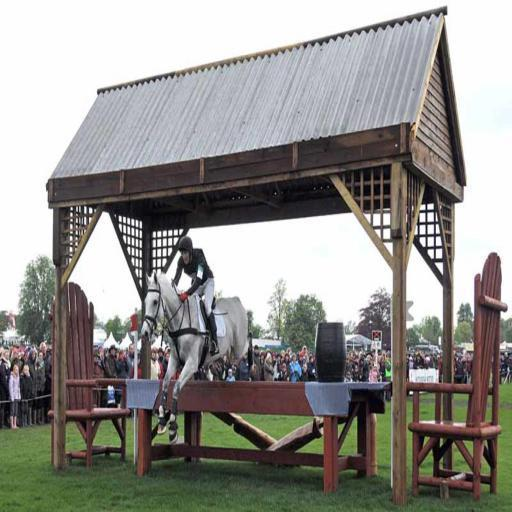horse: (140, 268, 250, 446)
